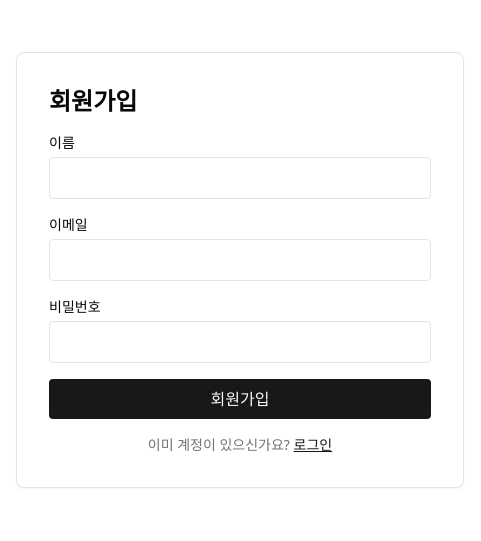
Test: Register page › 비밀번호 규칙을 위반하면 Zod 검증 오류를 표시한다
In the password field labelled "비밀번호": (240, 342) [49, 321, 431, 363], type "short"
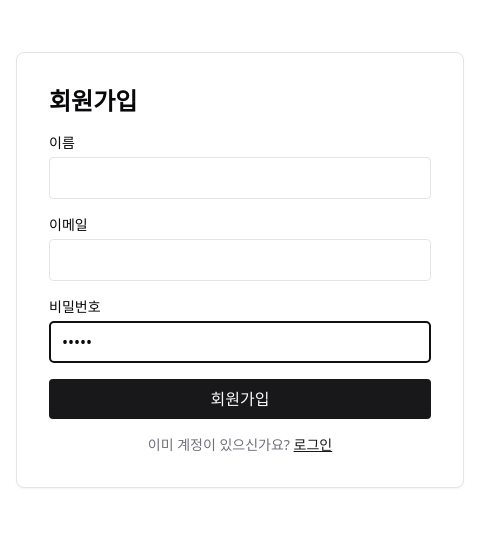
Click the button "회원가입": (240, 399) [49, 379, 431, 419]
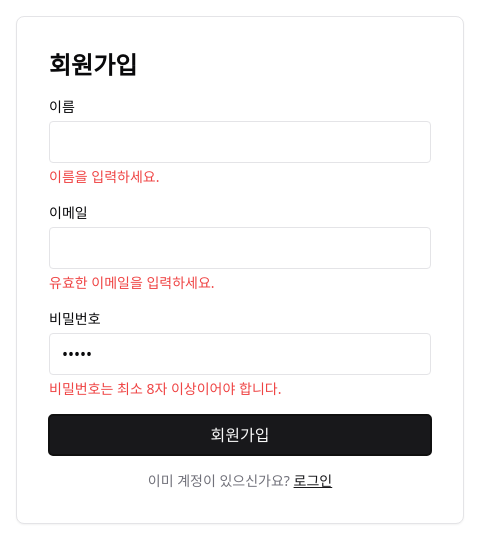
Expected: the text "비밀번호는 최소 8자 이상이어야 합니다." is shown, [49, 379, 281, 398]
